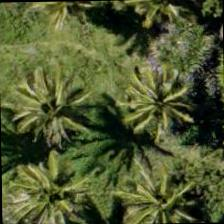Kelapa_Sawit: (110, 48, 202, 140), (8, 63, 100, 155), (5, 157, 97, 223), (118, 164, 210, 223)
